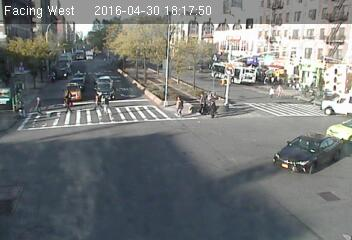neg: (119, 151, 137, 175), (252, 109, 269, 131), (308, 127, 324, 149), (261, 184, 277, 205), (40, 178, 56, 199), (117, 16, 132, 36), (183, 164, 198, 184), (61, 15, 75, 34), (196, 44, 210, 63), (86, 140, 99, 158), (278, 138, 291, 155), (321, 99, 334, 116), (317, 37, 330, 54), (151, 12, 163, 29), (182, 8, 194, 24), (93, 14, 105, 30), (176, 129, 188, 145), (225, 177, 237, 193), (280, 22, 292, 37), (222, 9, 234, 24), (128, 122, 139, 137), (31, 135, 42, 150), (125, 62, 136, 76), (173, 44, 182, 56), (101, 56, 110, 67), (74, 55, 82, 66), (88, 195, 96, 206), (228, 149, 236, 159), (316, 193, 323, 201), (315, 82, 321, 90), (206, 139, 212, 147)
pos: (26, 90, 47, 117), (167, 91, 187, 119), (10, 93, 30, 120), (88, 88, 108, 115), (191, 90, 211, 115), (57, 85, 76, 110), (98, 92, 117, 117), (205, 95, 223, 120), (265, 83, 278, 100), (274, 83, 286, 98)
